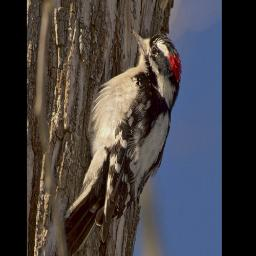Woodpecker: (64, 28, 182, 256)
